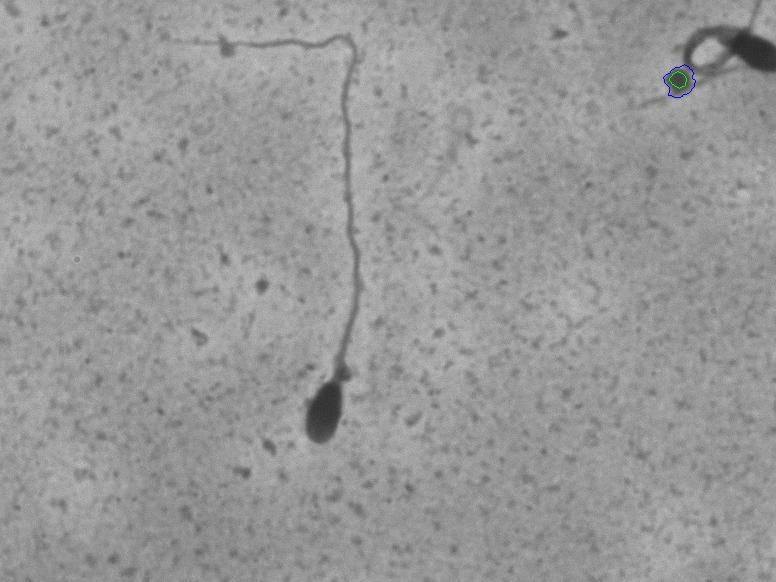Normal: (136, 3, 444, 477)
